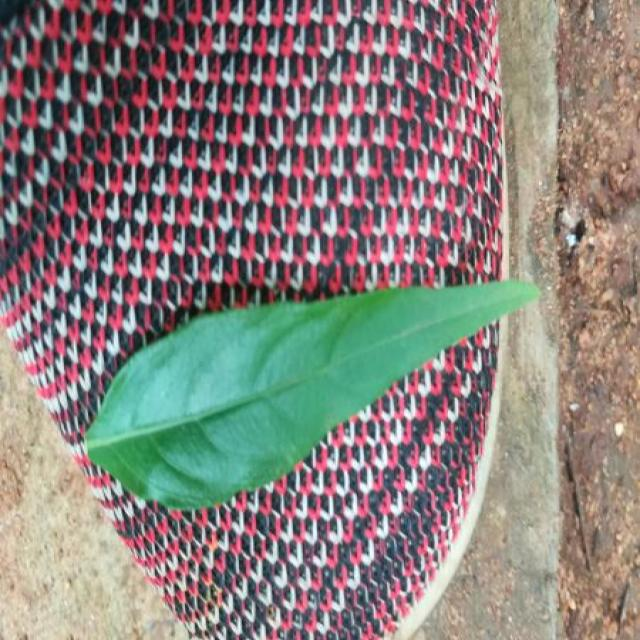Nelavembu: (85, 281, 538, 509)
